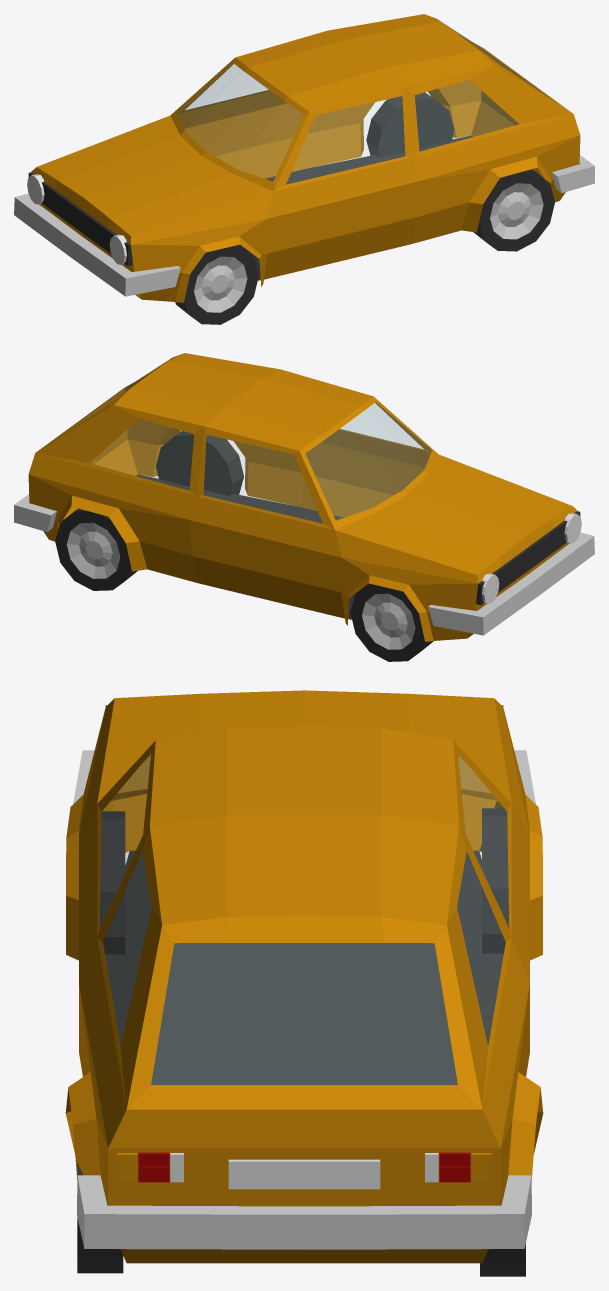
File: car.fbx
The picture shows the model from 3 angles, top to bottom: view 1: azimuth 30°, elevation 25°; view 2: azimuth 150°, elevation 25°; view 3: azimuth 270°, elevation 25°; orthographic projection. The views are drawn at different scales.
Visible parts, largest first — view 1: vw, Circle.001, Circle, Circle.003; view 2: vw, Circle.003, Wheel, Circle.001; view 3: vw, Wheel, Circle, Circle.001, Circle.003.
Part boxes in pixels (left/top/right/bottom): vw: left=14, top=14, right=594, bottom=302; Circle.001: left=473, top=169, right=554, bottom=251; Circle: left=175, top=245, right=258, bottom=324; Circle.003: left=366, top=92, right=454, bottom=158; vw: left=14, top=353, right=594, bottom=641; Circle.003: left=55, top=508, right=137, bottom=590; Wheel: left=350, top=583, right=433, bottom=661; Circle.001: left=156, top=431, right=243, bottom=495; vw: left=65, top=690, right=543, bottom=1263; Wheel: left=482, top=808, right=509, bottom=953; Circle: left=99, top=811, right=125, bottom=954; Circle.001: left=77, top=1163, right=123, bottom=1273; Circle.003: left=480, top=1243, right=525, bottom=1276.
Size of the model in its own units: 632 by 231 by 277.
